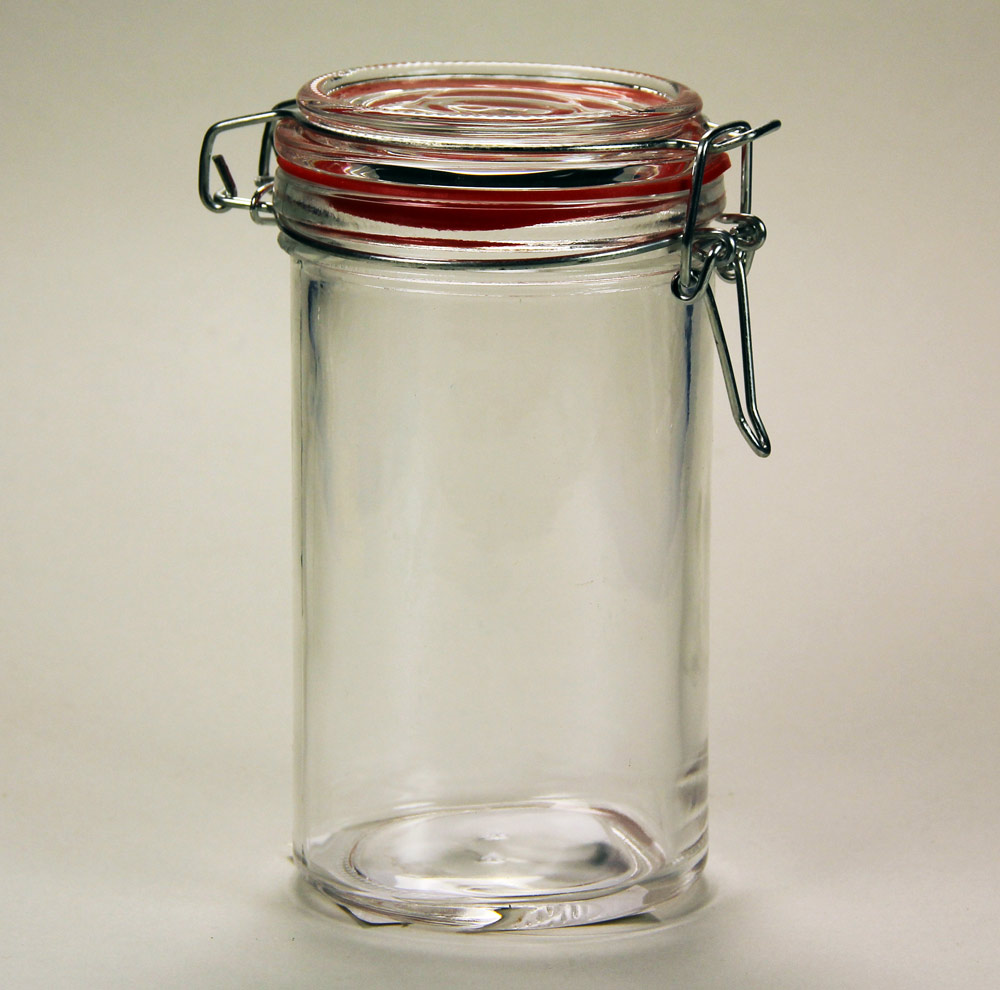Rec_Glass: (207, 52, 751, 941)
